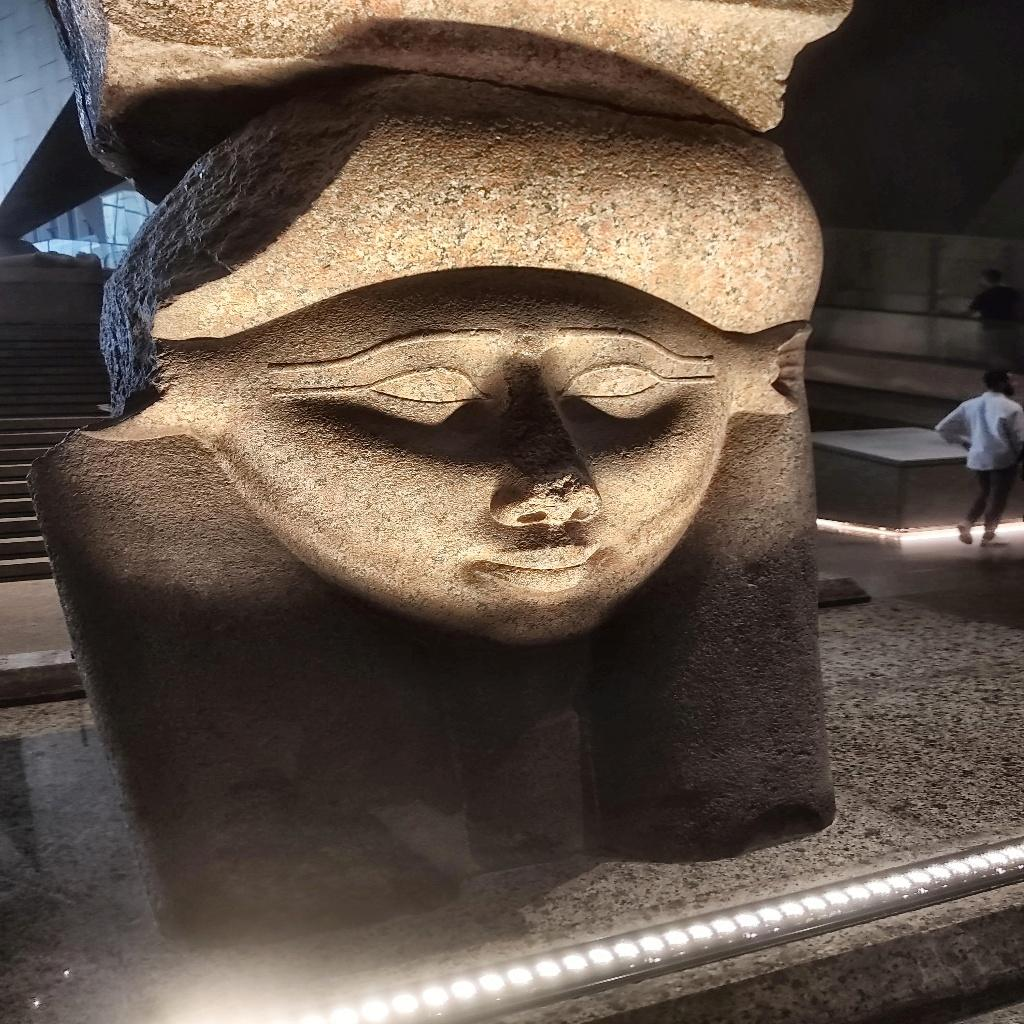Hathor Capital: (22, 3, 860, 950)
